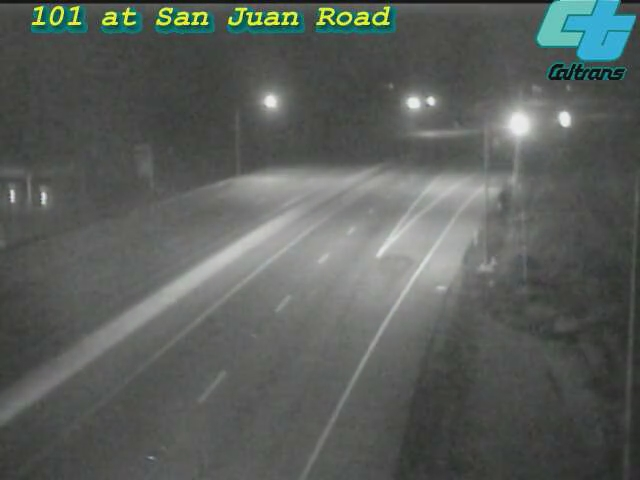vehicle: (491, 100, 541, 150), (533, 94, 583, 144)
